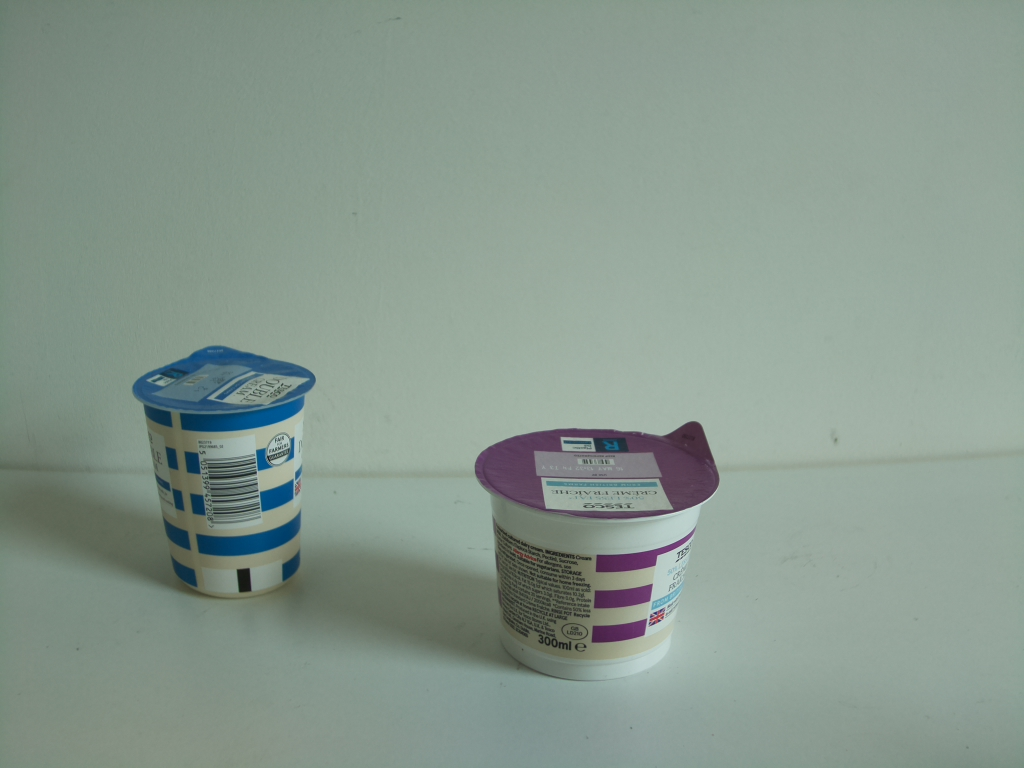cream: (473, 421, 719, 682), (133, 347, 319, 598)
